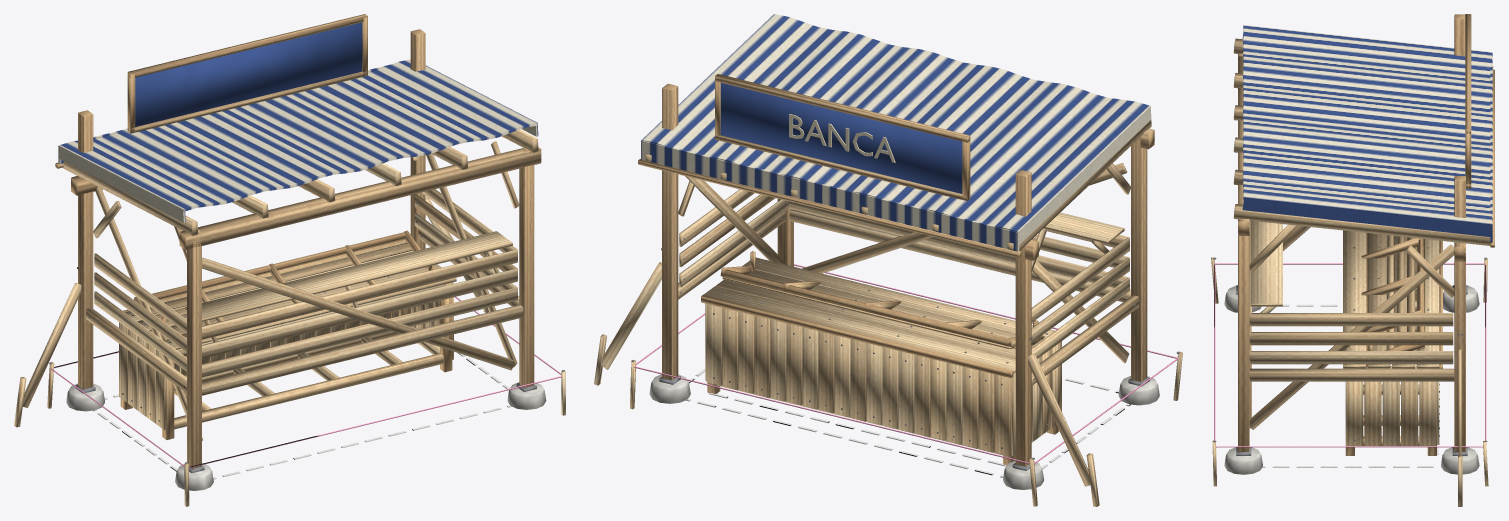
File: Works_BancaBuild.fbx
3 views of the same model, side by side, from view 1: azimuth 30°, elevation 25°; view 2: azimuth 150°, elevation 25°; view 3: azimuth 270°, elevation 25° (orthographic). The views are drawn at different scales.
Parts seen in each view (by area): view 1: Stage_5, Stage_3, Stage_0, Stage_1, Stage_4, Stage_2, Layout; view 2: Stage_5, Stage_2, Stage_0, Stage_3, Stage_1, Layout, Stage_4; view 3: Stage_5, Stage_3, Stage_2, Stage_0, Stage_4, Stage_1, Layout.
Boxes of the visible parts, x1,y1,x2,y2 form: Stage_5: (55,14,538,222); Stage_3: (94,189,517,377); Stage_0: (14,29,546,490); Stage_1: (86,229,523,439); Stage_4: (63,129,541,261); Stage_2: (119,243,456,429); Layout: (47,296,565,506); Stage_5: (638,14,1151,257); Stage_2: (701,257,1061,456); Stage_0: (594,83,1159,506); Stage_3: (679,189,1129,358); Stage_1: (678,209,1138,465); Layout: (630,264,1182,506); Stage_4: (645,120,1154,272); Stage_5: (1242,14,1494,247); Stage_3: (1249,220,1453,365); Stage_2: (1343,230,1442,446); Stage_0: (1224,14,1479,506); Stage_4: (1233,38,1493,297); Stage_1: (1249,262,1454,455); Layout: (1211,257,1488,486).
Bounding box in the file's own units: 4.7 × 3.08 × 2.45.
1 material, 1 textured.
